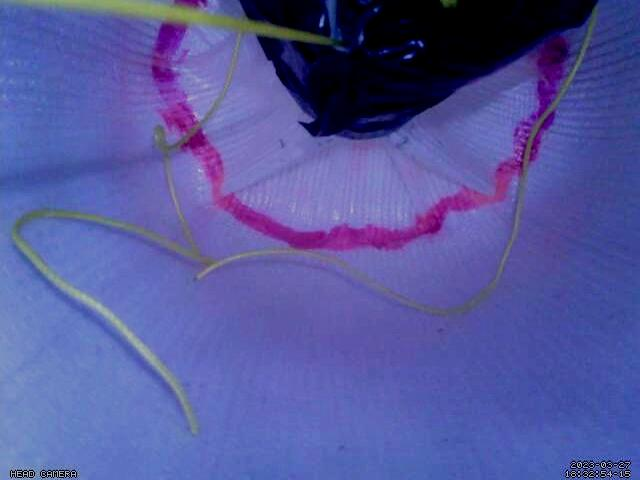head: (150, 1, 570, 251)
